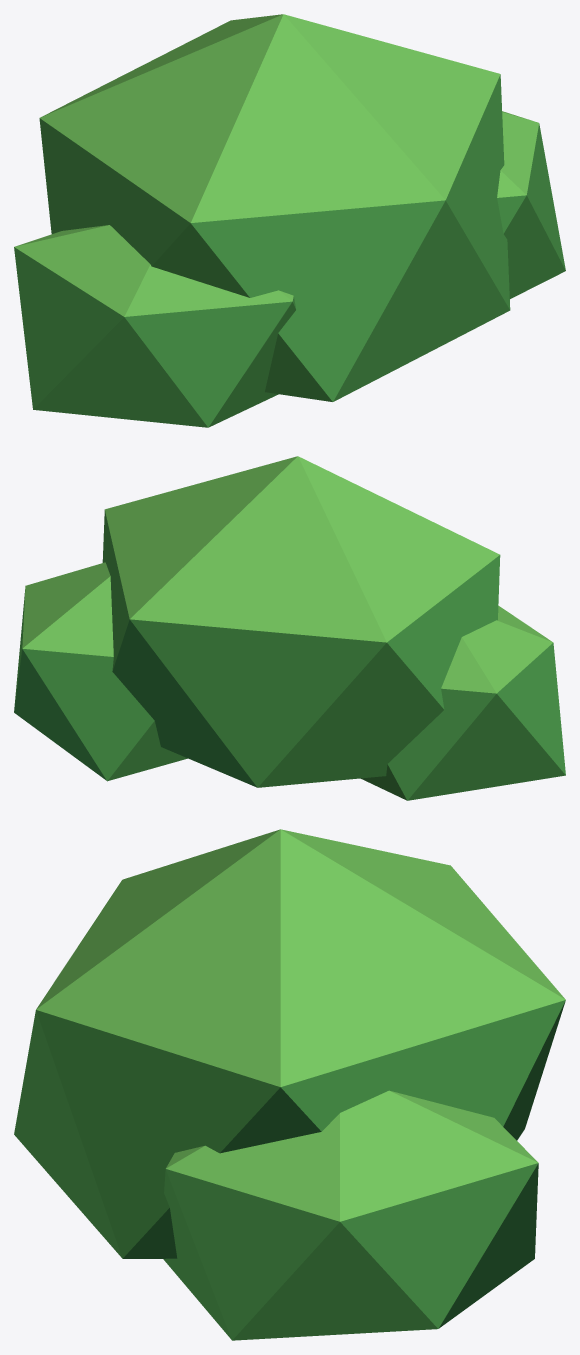
File: Bush_A.fbx
The picture shows the model from 3 angles, top to bottom: view 1: azimuth 30°, elevation 25°; view 2: azimuth 150°, elevation 25°; view 3: azimuth 270°, elevation 25°; orthographic projection. The views are drawn at different scales.
Visible parts, largest first — view 1: Bush_A; view 2: Bush_A; view 3: Bush_A.
Part boxes in pixels (bbox=[...]): Bush_A: bbox=[14, 14, 565, 427]; Bush_A: bbox=[14, 456, 565, 800]; Bush_A: bbox=[14, 829, 565, 1340].
Size of the model in its own units: 1.78 by 1.04 by 1.3.
1 material, 1 textured.
